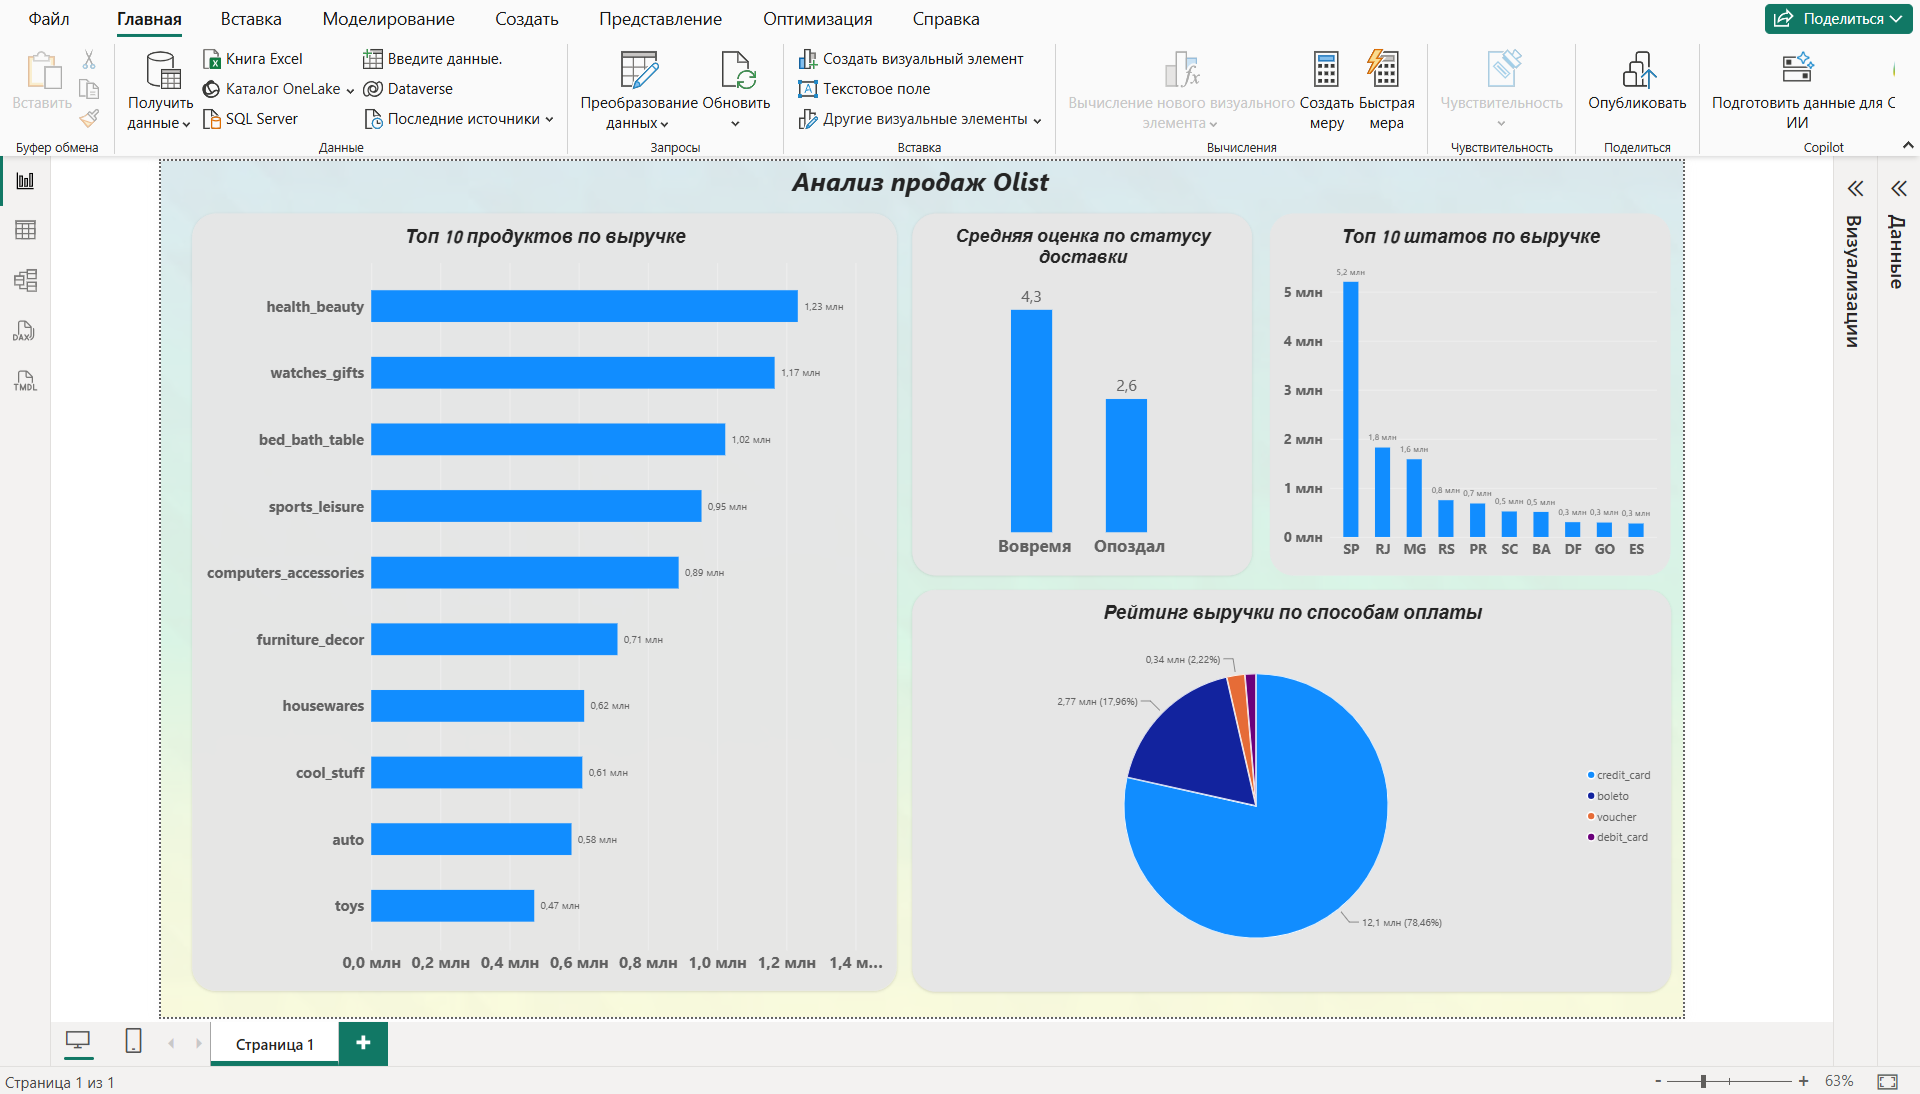

What the dashboard file says about the page in this screenshot:
{"tool":"powerbi","page":{"name":"Страница 1","canvas":[1920,1080],"ordinal":0},"visuals":[{"type":"clusteredColumnChart","title":"Средняя оценка по статусу доставки","fields":{"Category":["delivery (2).delivery_status"],"Y":["Sum(delivery (2).avg_score)"]},"box":[947.1,66.3,429.1,457],"z":1000},{"type":"pieChart","title":"Рейтинг выручки по способам оплаты","fields":{"Category":["payment type.payment_type"],"Y":["Sum(payment type.total_payments)"]},"box":[947.5,540.5,957.9,507.1],"z":2000},{"type":"clusteredBarChart","title":"Топ 10 продуктов по выручке","fields":{"Category":["top 10 products.product_category_name_english"],"Y":["Sum(top 10 products.sum)"]},"box":[39.7,66.8,889,980.9],"z":3000},{"type":"columnChart","title":"Топ 10 штатов по выручке","fields":{"Category":["top 10 state.customer_state"],"Y":["Sum(top 10 state.total)"]},"box":[1398.8,66.3,505.8,457],"z":4000},{"type":"textbox","box":[648.8,3.5,620.4,63.9],"z":5000}]}

Visuals, with their boxes on the page's 1920x1080 design canvas (x1, y1, x2, y2). These are canvas units, not pixel positions in the 1920x1094 screenshot, which may show the page scaled, cropped or inside an application window:
"Средняя оценка по статусу доставки" clusteredColumnChart: locate(947, 66, 1376, 523)
"Рейтинг выручки по способам оплаты" pieChart: locate(948, 540, 1905, 1048)
"Топ 10 продуктов по выручке" clusteredBarChart: locate(40, 67, 929, 1048)
"Топ 10 штатов по выручке" columnChart: locate(1399, 66, 1905, 523)
textbox: locate(649, 4, 1269, 67)
